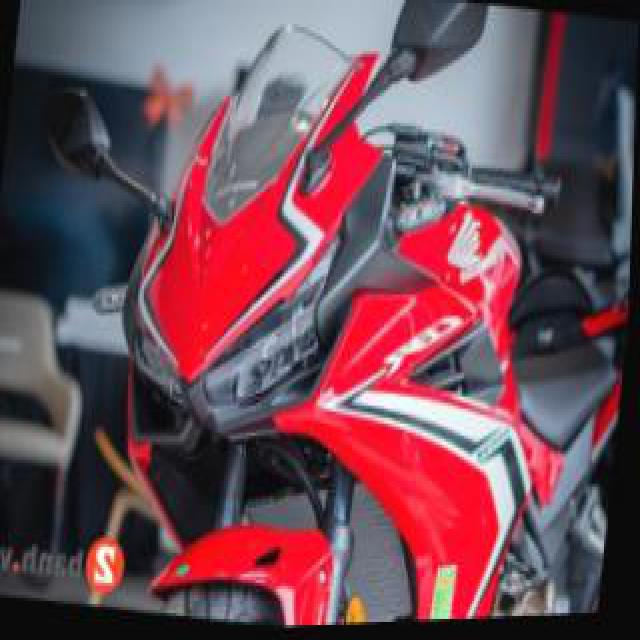CBR500R: (86, 0, 638, 634)
